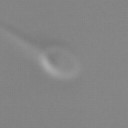normal: (1, 25, 42, 56)
